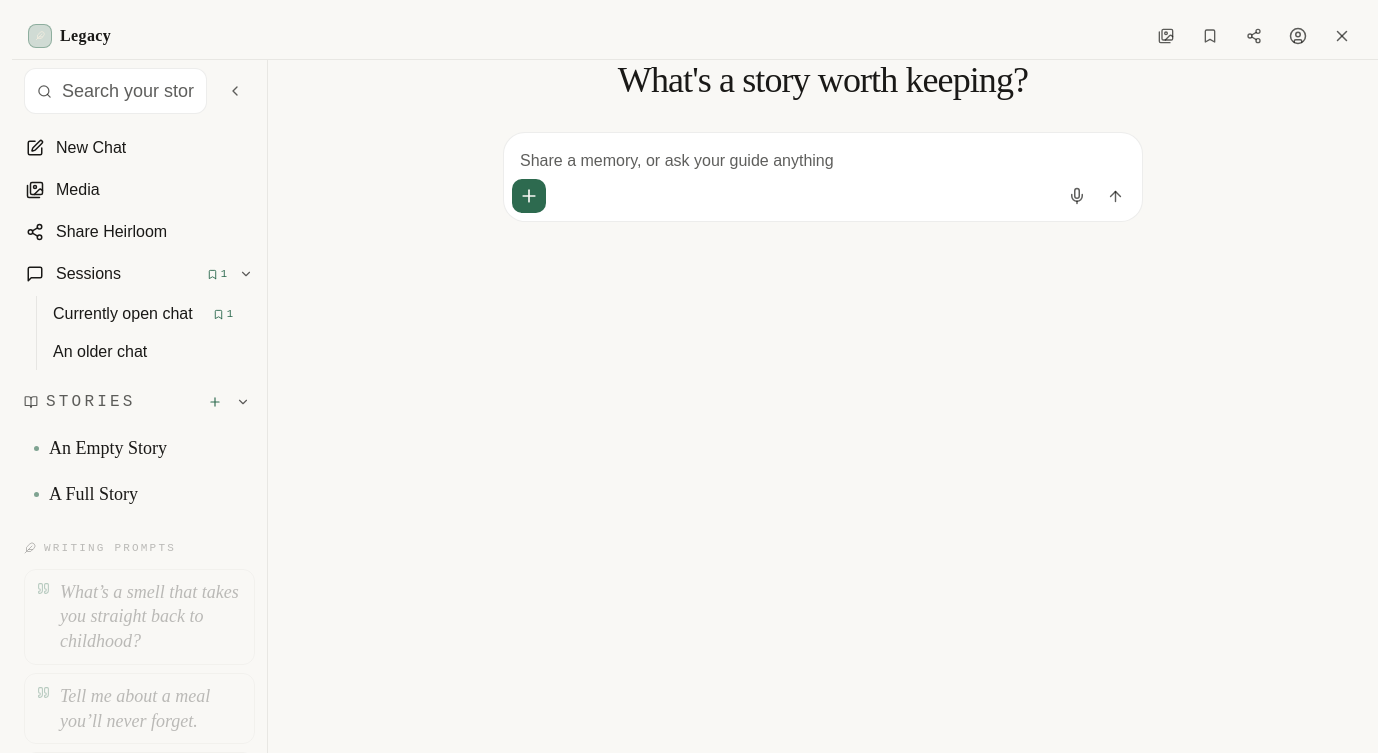
Selecting a session closes an open Story view › New Chat (available on the rail) closes the Story and shows the empty chat
Step 1. Click the button "A Full Story" → {"x": 110, "y": 494}, box 24,472 -> 195,516
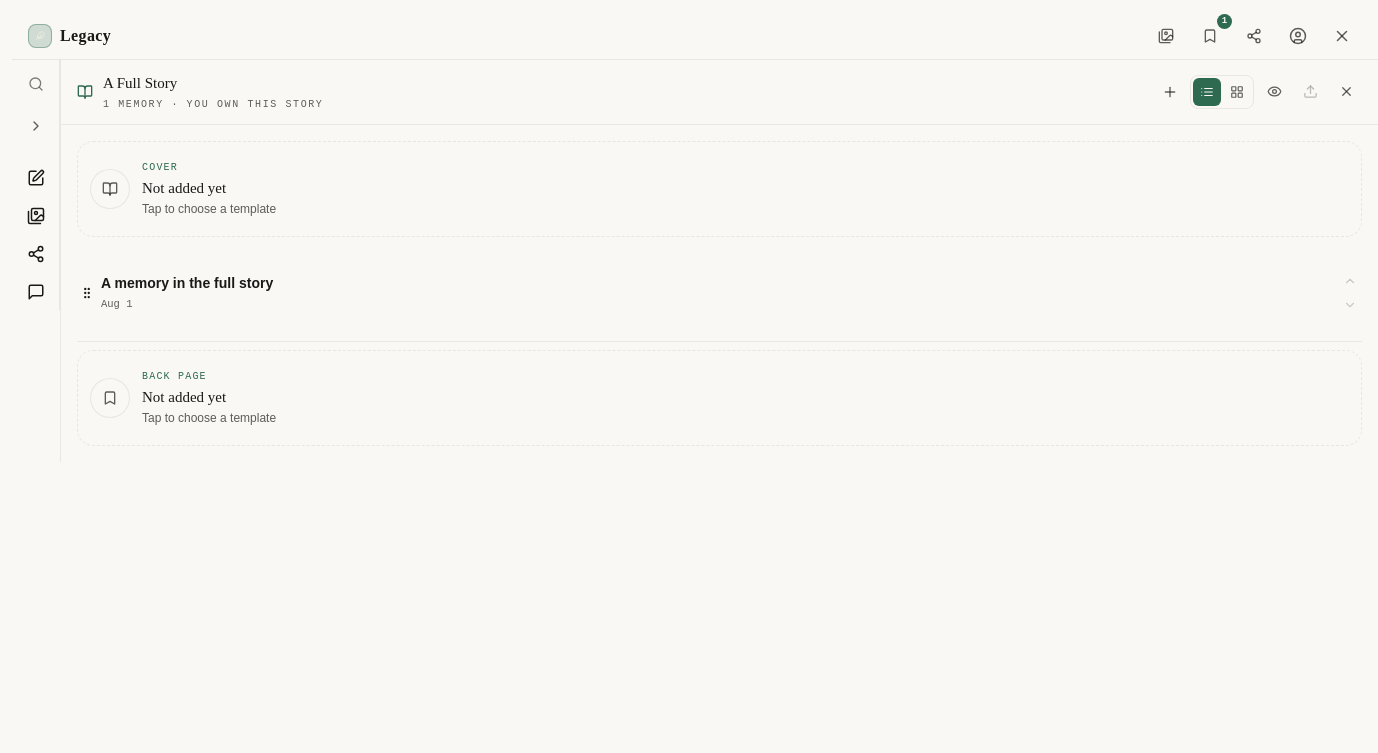
expect the button named "Close story" is shown: met, box 1330,76 -> 1362,108
expect the text "A memory in the full story" is shown: met, box 101,275 -> 273,291
Step 2. Click the button named "New Chat" → {"x": 36, "y": 178}, box 18,160 -> 54,196
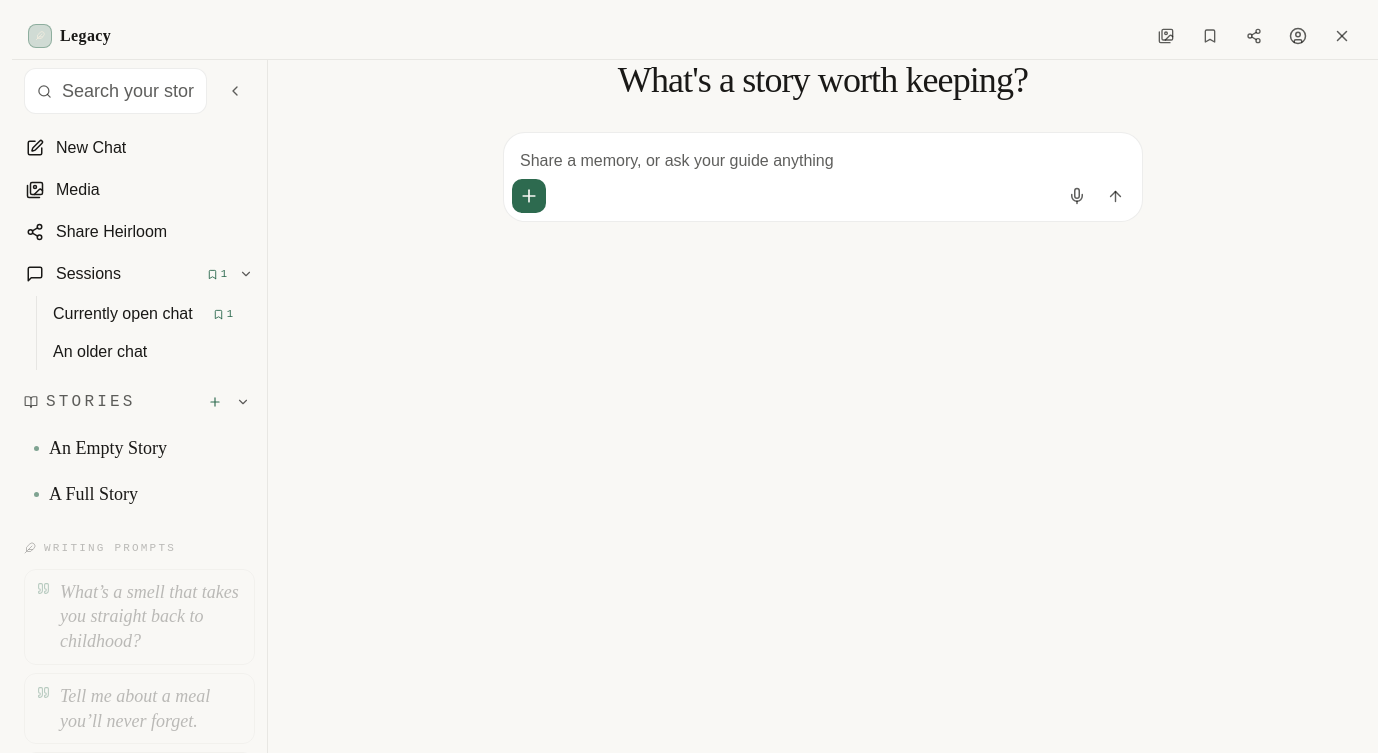
expect the heading "What's a story worth keeping?" is shown: met, box 618,60 -> 1028,100
